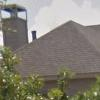Chimney: (4, 1, 37, 51)
